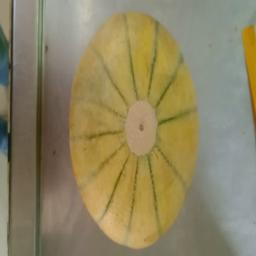Melon Fresh: (50, 8, 215, 256)
